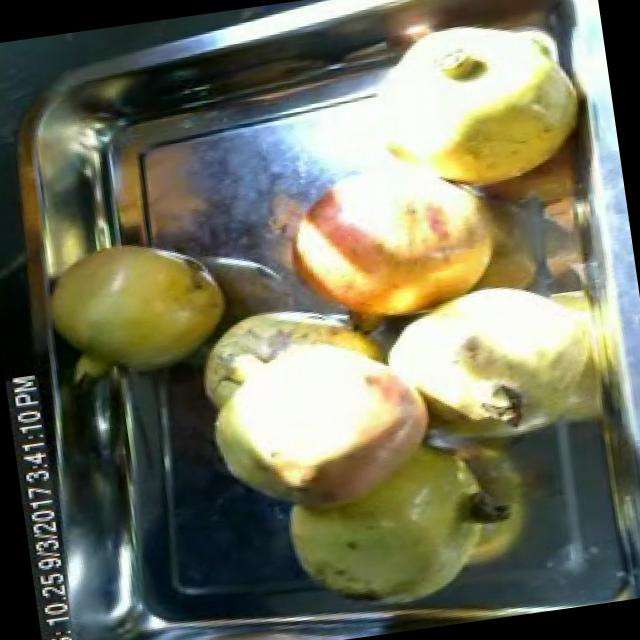fruit: (178, 274, 468, 552), (262, 104, 532, 348), (347, 0, 611, 218), (418, 260, 612, 457), (34, 218, 244, 392)
